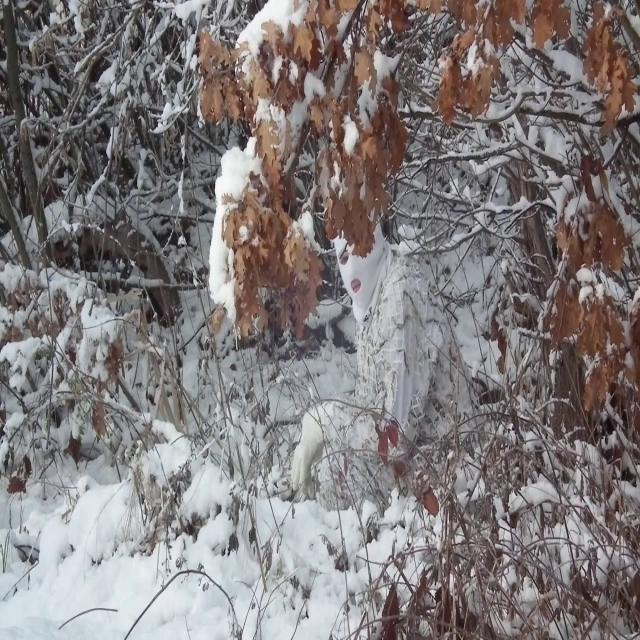Camouflage: (292, 207, 478, 504)
